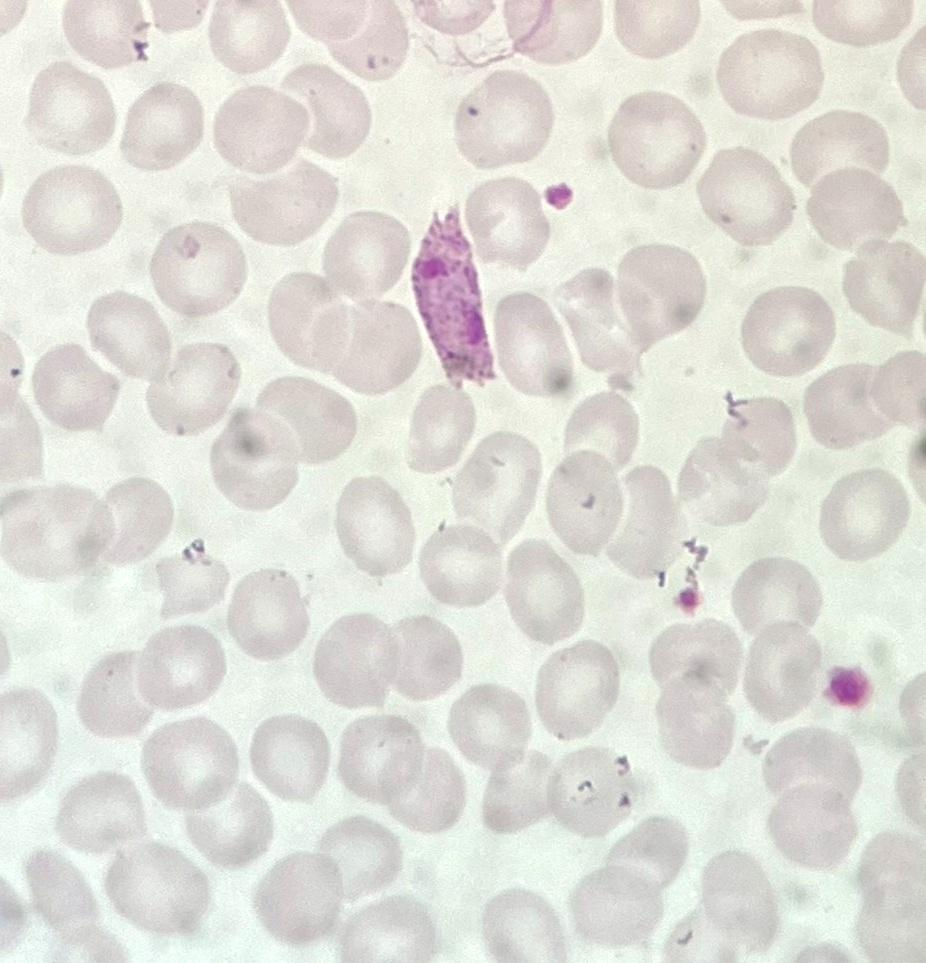Infected: (406, 203, 499, 387)
Uninfected: (0, 483, 112, 583), (612, 242, 708, 352), (448, 431, 542, 542), (206, 407, 306, 509), (105, 842, 209, 937), (253, 374, 358, 468), (278, 63, 377, 162), (454, 70, 554, 168), (140, 714, 239, 812), (714, 27, 820, 118), (695, 146, 792, 245), (553, 268, 638, 380), (147, 223, 246, 319), (534, 637, 622, 744), (324, 299, 422, 395), (227, 163, 338, 247), (606, 92, 705, 186), (676, 435, 773, 530), (20, 164, 121, 255), (322, 209, 414, 308), (602, 464, 680, 578), (739, 619, 825, 722), (211, 86, 310, 175), (542, 449, 625, 555), (252, 851, 346, 943), (490, 292, 573, 396), (24, 62, 116, 155), (739, 285, 832, 377), (28, 341, 120, 434), (808, 165, 906, 252), (134, 624, 228, 714), (310, 613, 400, 707), (543, 745, 637, 835), (145, 348, 239, 438), (646, 619, 742, 707), (568, 863, 666, 949), (498, 542, 580, 644), (695, 848, 776, 951), (307, 1, 411, 81), (817, 469, 908, 560), (765, 777, 858, 866), (651, 672, 739, 766), (461, 177, 550, 267), (802, 361, 894, 448), (22, 845, 106, 940), (332, 480, 415, 576), (85, 290, 172, 381), (120, 82, 208, 171), (266, 272, 345, 371), (225, 567, 310, 658), (338, 717, 430, 801), (763, 726, 858, 807), (790, 107, 889, 184), (181, 782, 271, 866), (56, 772, 147, 855), (841, 242, 922, 335), (246, 714, 330, 803), (313, 817, 400, 901), (417, 523, 502, 607), (76, 649, 158, 735), (730, 555, 820, 633), (446, 682, 528, 767), (480, 749, 562, 834), (381, 747, 463, 831), (95, 476, 172, 565), (383, 614, 461, 700), (559, 389, 639, 472), (404, 383, 478, 472), (717, 393, 796, 476), (604, 816, 687, 890), (480, 889, 566, 960), (153, 541, 229, 617), (614, 1, 702, 59)
